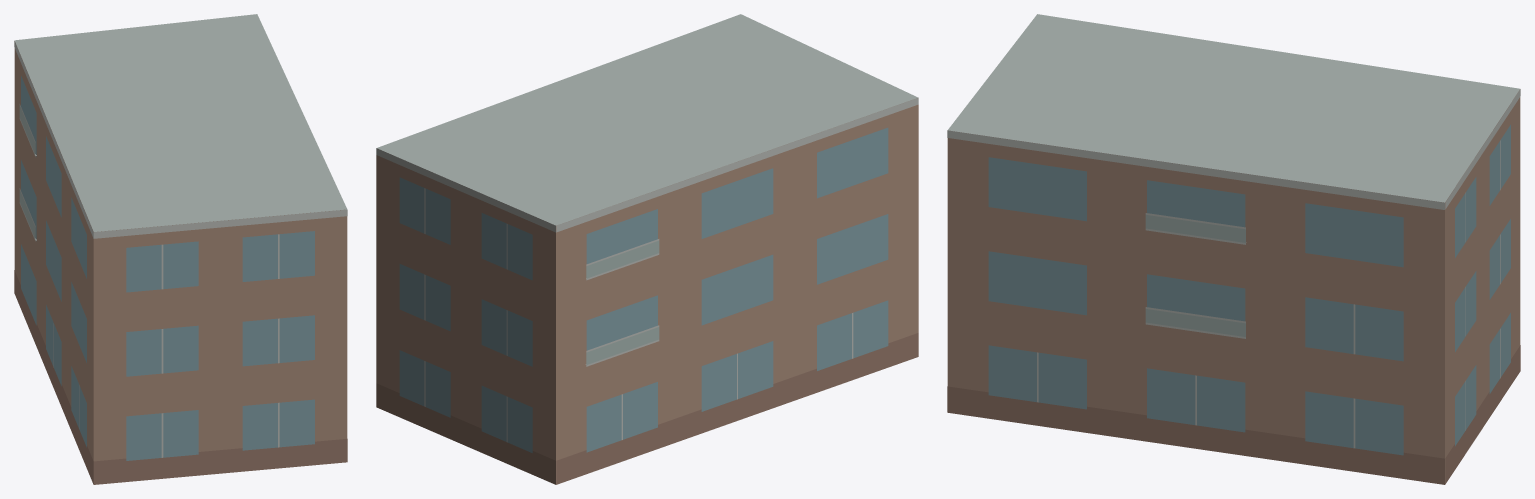
The model's file is survey-upis-32877219.glb.
3 renders of one model, left to right at view 1: azimuth 30°, elevation 25°; view 2: azimuth 150°, elevation 25°; view 3: azimuth 270°, elevation 25°, orthographic. The views are drawn at different scales.
Parts seen in each view (by area): view 1: survey-upis-32877219.tmp; view 2: survey-upis-32877219.tmp; view 3: survey-upis-32877219.tmp.
Part boxes in pixels (x1,y1,x2,y2): survey-upis-32877219.tmp: [14, 14, 347, 484]; survey-upis-32877219.tmp: [376, 14, 918, 484]; survey-upis-32877219.tmp: [947, 14, 1520, 484].
Size of the model in its own units: 13.12 by 9.15 by 16.85.
